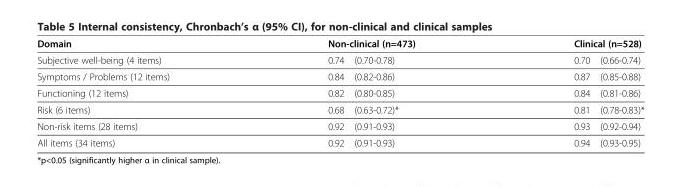table: (36, 37, 643, 148)
table column: (248, 37, 493, 148), (36, 37, 248, 148), (493, 37, 643, 148)
table column header: (36, 37, 643, 51)
table row: (36, 67, 643, 84), (36, 84, 643, 101), (36, 117, 643, 134), (36, 51, 643, 67), (36, 101, 643, 117), (36, 37, 643, 51), (36, 134, 643, 148)
